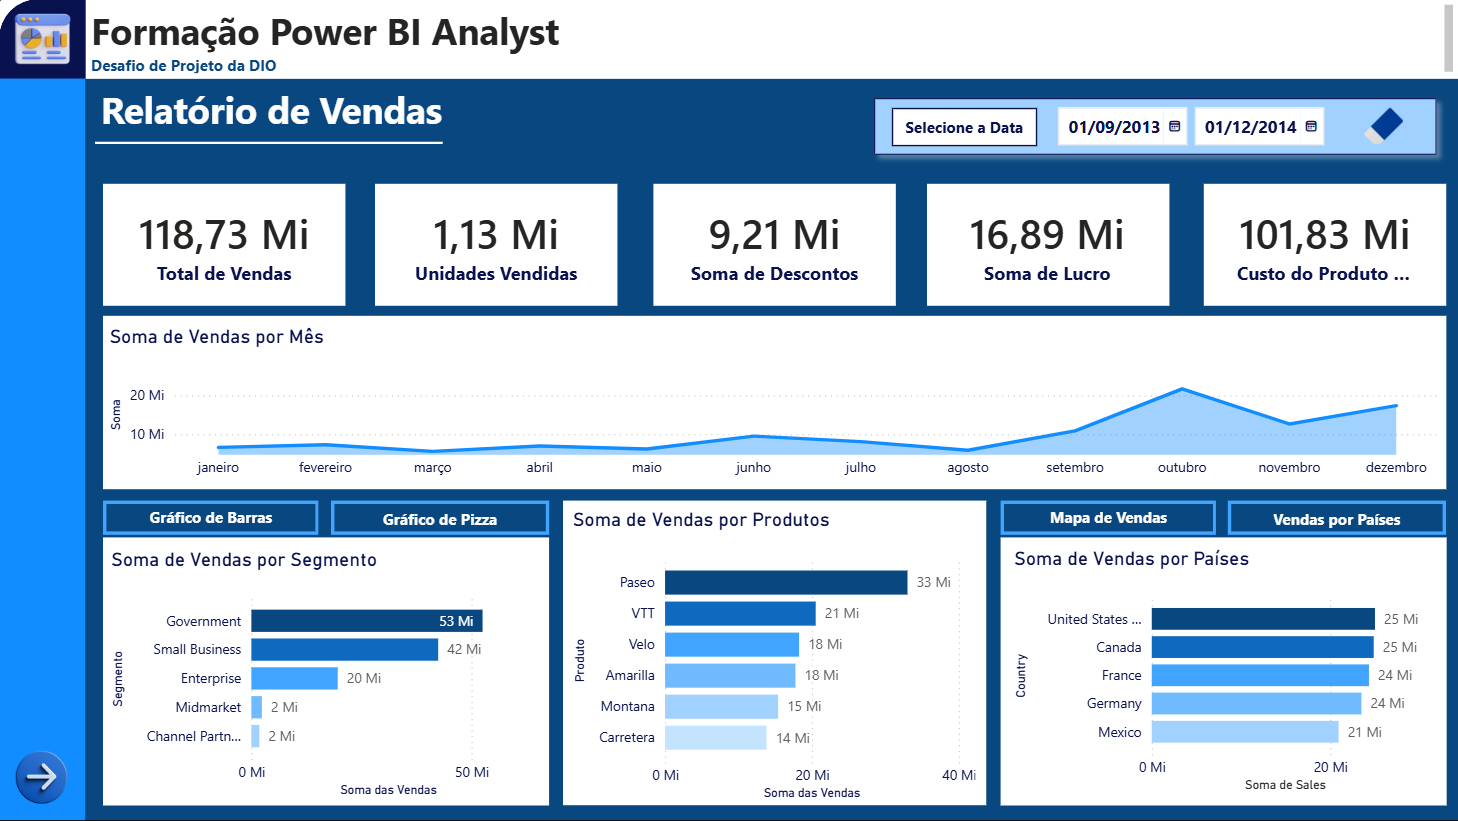

The dashboard page shown, as its layout file describes it:
{"tool":"powerbi","page":{"name":"Relatório de Vendas","canvas":[1280,720],"ordinal":0},"visuals":[{"type":"shape","title":"Forma fundo azul escuro","box":[0,0,1280,719.8],"z":0,"group":"g1"},{"type":"group","id":"g1","title":"Grupo Layout","box":[0,0,1280,719.8],"z":0},{"type":"shape","title":"Fundo Data","box":[757.8,77.8,511.1,67.8],"z":0,"group":"g3"},{"type":"shape","title":"Forma 5","box":[1055.8,162,212.9,106.9],"z":0,"group":"g2"},{"type":"shape","title":"Fundo de Soma por mês","box":[91,278,1178,152],"z":0,"group":"g4"},{"type":"shape","title":"Fundo Vendas por Segmento","box":[91,472,391,235],"z":0,"group":"g5"},{"type":"image","title":"Imagem Próxima Página","box":[14.4,657.8,45.6,48.9],"z":0,"group":"g6"},{"type":"shape","title":"Forma lateral esquerda azul claro","box":[0,0,75.9,719.8],"z":1000,"group":"g1"},{"type":"slicer","title":"Segmentação de Dados por Data","fields":{"Values":["financials.Date"]},"box":[918.7,88,260.8,47.7],"z":1000,"group":"g3"},{"type":"group","id":"g2","title":"Grupo Somas","box":[91,162,1177.7,106.9],"z":1000},{"type":"cardVisual","title":"Cartão Soma de COGS","fields":{"Data":["Sum(financials.COGS)"]},"box":[1060,164,204,102],"z":1000,"group":"g2"},{"type":"areaChart","title":"Soma de Vendas por Mês","fields":{"Category":["financials.Date.Variation.Hierarquia de datas.Mês"],"Y":["Sum(financials.Sales)"]},"box":[96,284,1167,139],"z":1000,"group":"g4"},{"type":"shape","title":"Fundo Vendas por Produto","box":[494,440,371,267],"z":1000,"group":"g5"},{"type":"textbox","title":"Caixa de texto Formação","box":[75.9,0,1204.1,70],"z":2000,"group":"g1"},{"type":"group","id":"g3","title":"Grupo Data","box":[757.8,77.8,511.1,67.8],"z":2000},{"type":"textbox","title":"Caixa de texto Data","box":[782.2,95.6,127.4,33.2],"z":2000,"group":"g3"},{"type":"shape","title":"Forma 4","box":[813,162,212.9,106.9],"z":2000,"group":"g2"},{"type":"shape","title":"Fundo Vendas por Países - mapa","box":[878,472,391,235],"z":2000,"group":"g5"},{"type":"textbox","title":"Caixa de texto Relatório de Vendas","box":[84.5,69.5,324.8,56.4],"z":3000,"group":"g1"},{"type":"image","title":"Botão 5 - Borracha","box":[1189,93.4,49.3,33.3],"z":3000,"group":"g3"},{"type":"cardVisual","fields":{"Data":["Sum(financials.Profit)"]},"box":[817,164,204,102],"z":3000,"group":"g2"},{"type":"group","id":"g4","title":"Grupo Soma de Vendas por Mês","box":[91,278,1178,152],"z":3000},{"type":"clusteredBarChart","title":"Soma de Vendas por Produtos","fields":{"Category":["financials.Product"],"Y":["Sum(financials.Sales)"]},"box":[502,445,355,258],"z":3000,"group":"g5"},{"type":"shape","title":"Forma traço azul","box":[84.5,69.5,304.8,113.4],"z":4000,"group":"g1"},{"type":"shape","title":"Forma 3","box":[573.4,162,212.9,106.9],"z":4000,"group":"g2"},{"type":"group","id":"g5","title":"Grupo Gráficos e Mapa","box":[91,440,1178,267],"z":4000},{"type":"clusteredBarChart","title":"Soma de Vendas por Países","fields":{"Category":["financials.Country"],"Y":["Sum(financials.Sales)"]},"box":[884.4,480,380,220],"z":4000,"group":"g5"},{"type":"shape","title":"Fundo Ícone","box":[0,0,76,70],"z":5000,"group":"g1"},{"type":"cardVisual","title":"Cartão Total de Descontoa","fields":{"Data":["Sum(financials.Discounts)"]},"box":[577.9,164.3,204.3,102.1],"z":5000,"group":"g2"},{"type":"group","id":"g6","title":"Grupo Próxima Página","box":[14.4,657.8,45.6,48.9],"z":5000},{"type":"image","title":"Ícone Dashboard","box":[0,11,76,48],"z":6000,"group":"g1"},{"type":"shape","title":"Forma 2","box":[329.5,162,212.9,106.9],"z":6000,"group":"g2"},{"type":"cardVisual","title":"Cartão Unidades Vendidas","fields":{"Data":["Sum(financials.Units Sold)"]},"box":[333.7,164.2,204.2,102.1],"z":7000,"group":"g2"},{"type":"clusteredBarChart","title":"Soma de Vendas por Segmento","fields":{"Category":["financials.Segment"],"Y":["Sum(financials.Sales)"]},"box":[97,480,380,220],"z":7000,"group":"g5"},{"type":"shape","title":"Forma 1","box":[91,162,212.9,106.9],"z":8000,"group":"g2"},{"type":"actionButton","title":"Botão 4 - Vendas por Países","box":[1077.1,440,191.3,30],"z":8000,"group":"g5"},{"type":"cardVisual","title":"Cartão Total de Vendas","fields":{"Data":["Sum(financials.Sales)"]},"box":[95,164,204,102],"z":9000,"group":"g2"},{"type":"actionButton","title":"Botão 3 - Mapa de Vendas","box":[878.1,440,189.2,30],"z":9000,"group":"g5"},{"type":"actionButton","title":"Botão 2 - Gráfico de Pizza","box":[291.1,440,191.3,30],"z":10000,"group":"g5"},{"type":"actionButton","title":"Botão 1 - Gráfico de Barras","box":[91.1,440,189.2,30],"z":11000,"group":"g5"}]}

Visuals, with their boxes in screenshot pixels (x1, y1, x2, y2), scaled from the page's 1280x720 canvas onto the 1458x821 screenshot:
"Forma fundo azul escuro" shape: x1=0, y1=0, x2=1457, y2=820
"Grupo Layout" group: x1=0, y1=0, x2=1457, y2=820
"Fundo Data" shape: x1=863, y1=89, x2=1445, y2=166
"Forma 5" shape: x1=1203, y1=185, x2=1445, y2=307
"Fundo de Soma por mês" shape: x1=104, y1=317, x2=1445, y2=490
"Fundo Vendas por Segmento" shape: x1=104, y1=538, x2=549, y2=806
"Imagem Próxima Página" image: x1=16, y1=750, x2=68, y2=806
"Forma lateral esquerda azul claro" shape: x1=0, y1=0, x2=86, y2=820
"Segmentação de Dados por Data" slicer: x1=1046, y1=100, x2=1344, y2=155
"Grupo Somas" group: x1=104, y1=185, x2=1445, y2=307
"Cartão Soma de COGS" cardVisual: x1=1207, y1=187, x2=1440, y2=303
"Soma de Vendas por Mês" areaChart: x1=109, y1=324, x2=1439, y2=482
"Fundo Vendas por Produto" shape: x1=563, y1=502, x2=985, y2=806
"Caixa de texto Formação" textbox: x1=86, y1=0, x2=1457, y2=80
"Grupo Data" group: x1=863, y1=89, x2=1445, y2=166
"Caixa de texto Data" textbox: x1=891, y1=109, x2=1036, y2=147
"Forma 4" shape: x1=926, y1=185, x2=1169, y2=307
"Fundo Vendas por Países - mapa" shape: x1=1000, y1=538, x2=1445, y2=806
"Caixa de texto Relatório de Vendas" textbox: x1=96, y1=79, x2=466, y2=144
"Botão 5 - Borracha" image: x1=1354, y1=107, x2=1411, y2=144
cardVisual - Sum(financials.Profit): x1=931, y1=187, x2=1163, y2=303
"Grupo Soma de Vendas por Mês" group: x1=104, y1=317, x2=1445, y2=490
"Soma de Vendas por Produtos" clusteredBarChart: x1=572, y1=507, x2=976, y2=802
"Forma traço azul" shape: x1=96, y1=79, x2=443, y2=209
"Forma 3" shape: x1=653, y1=185, x2=896, y2=307
"Grupo Gráficos e Mapa" group: x1=104, y1=502, x2=1445, y2=806
"Soma de Vendas por Países" clusteredBarChart: x1=1007, y1=547, x2=1440, y2=798
"Fundo Ícone" shape: x1=0, y1=0, x2=87, y2=80
"Cartão Total de Descontoa" cardVisual: x1=658, y1=187, x2=891, y2=304
"Grupo Próxima Página" group: x1=16, y1=750, x2=68, y2=806
"Ícone Dashboard" image: x1=0, y1=13, x2=87, y2=67
"Forma 2" shape: x1=375, y1=185, x2=618, y2=307
"Cartão Unidades Vendidas" cardVisual: x1=380, y1=187, x2=613, y2=304
"Soma de Vendas por Segmento" clusteredBarChart: x1=110, y1=547, x2=543, y2=798
"Forma 1" shape: x1=104, y1=185, x2=346, y2=307
"Botão 4 - Vendas por Países" actionButton: x1=1227, y1=502, x2=1445, y2=536
"Cartão Total de Vendas" cardVisual: x1=108, y1=187, x2=341, y2=303
"Botão 3 - Mapa de Vendas" actionButton: x1=1000, y1=502, x2=1216, y2=536
"Botão 2 - Gráfico de Pizza" actionButton: x1=332, y1=502, x2=549, y2=536
"Botão 1 - Gráfico de Barras" actionButton: x1=104, y1=502, x2=319, y2=536
